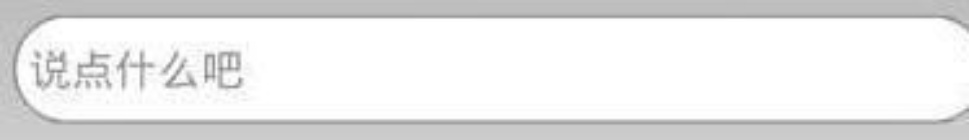EditText: (1, 1, 968, 139)
